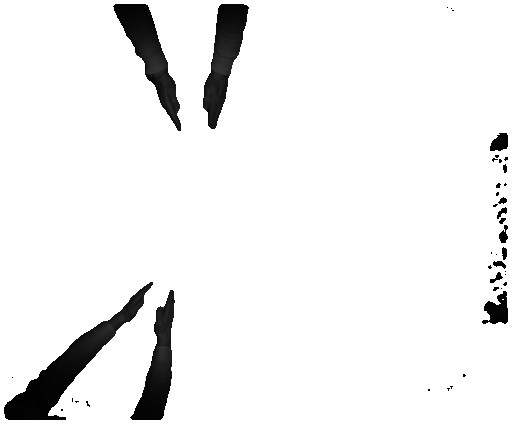spine: (144, 76, 183, 135), (109, 283, 155, 329), (204, 79, 231, 135), (156, 291, 175, 345)
